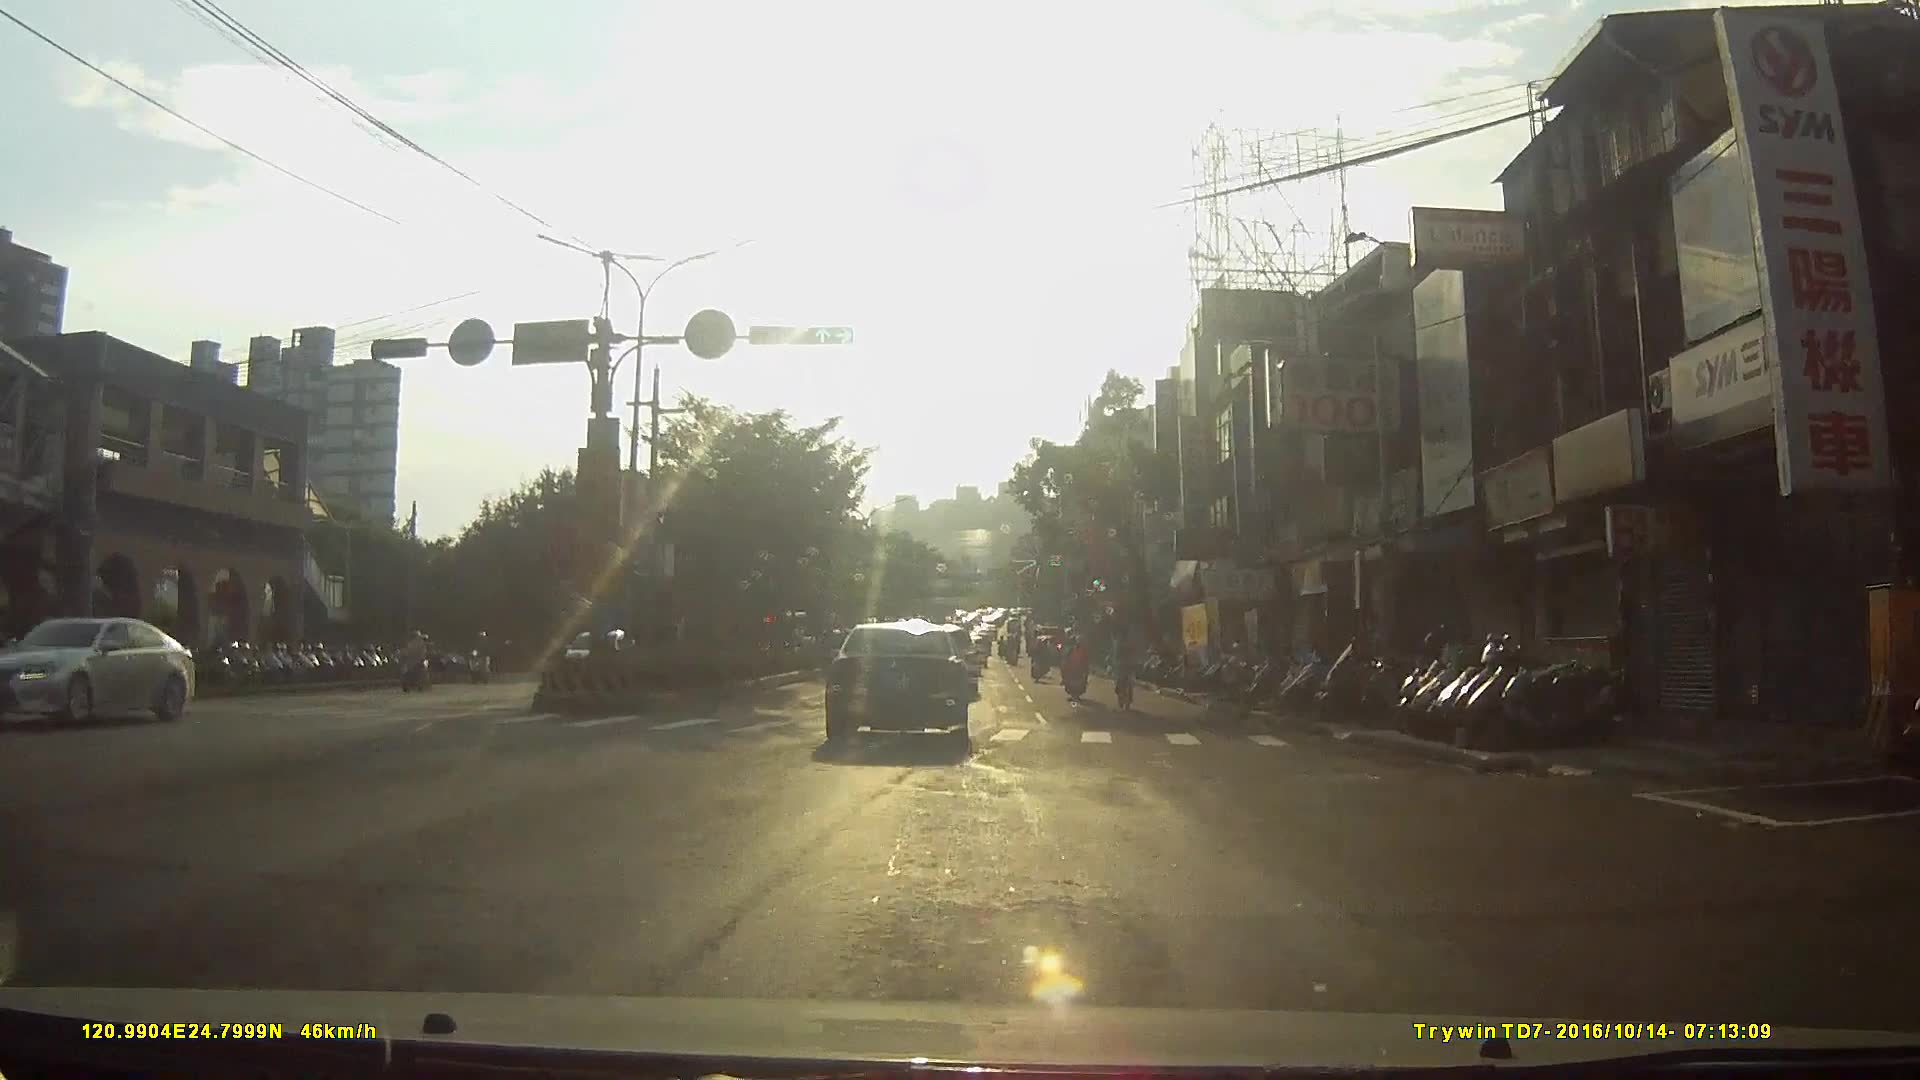rider: (1110, 624, 1139, 714), (1063, 634, 1090, 704), (398, 630, 428, 693), (468, 627, 496, 687), (1028, 632, 1053, 686)
vehicle: (4, 601, 192, 733), (829, 609, 987, 751)
